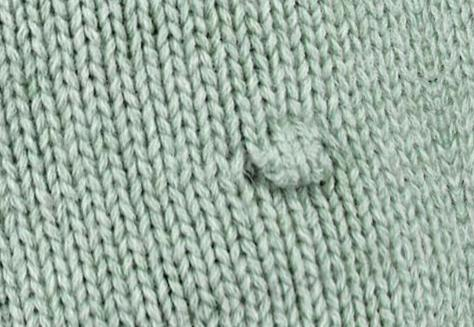knot: (247, 124, 336, 197)
